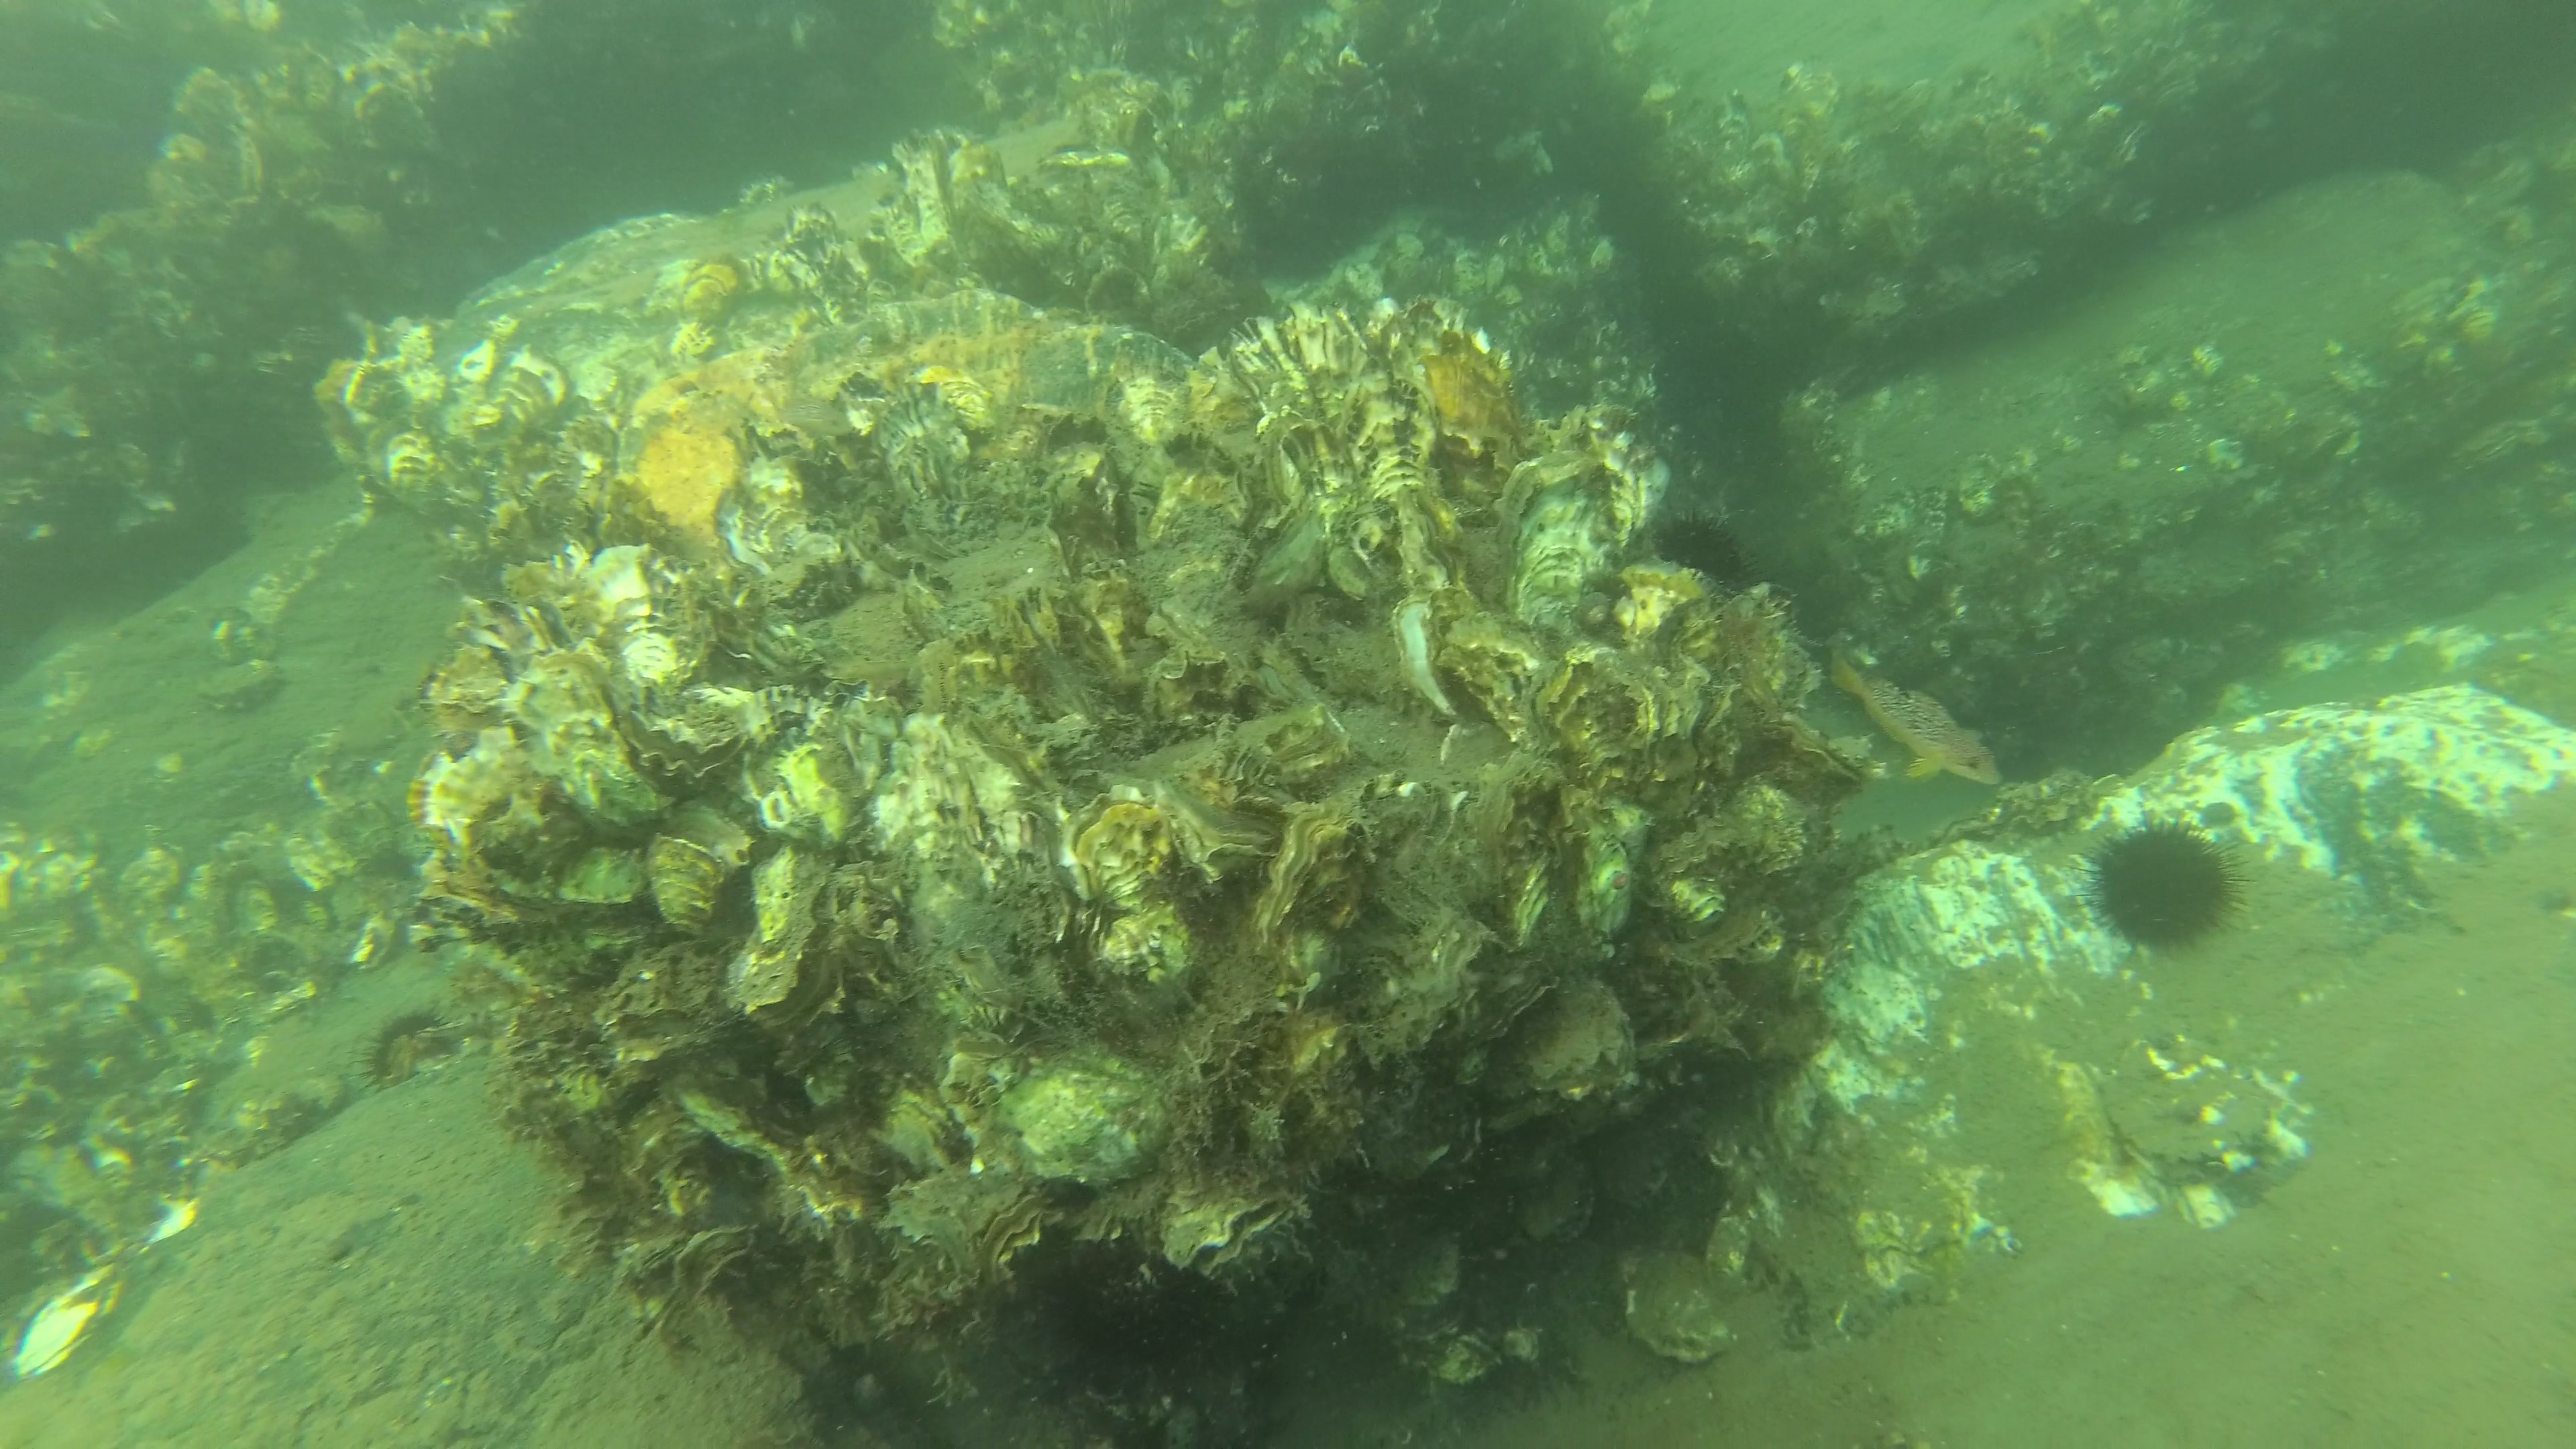echinus: (2079, 817, 2249, 957), (356, 1012, 455, 1092), (1649, 517, 1748, 587)
